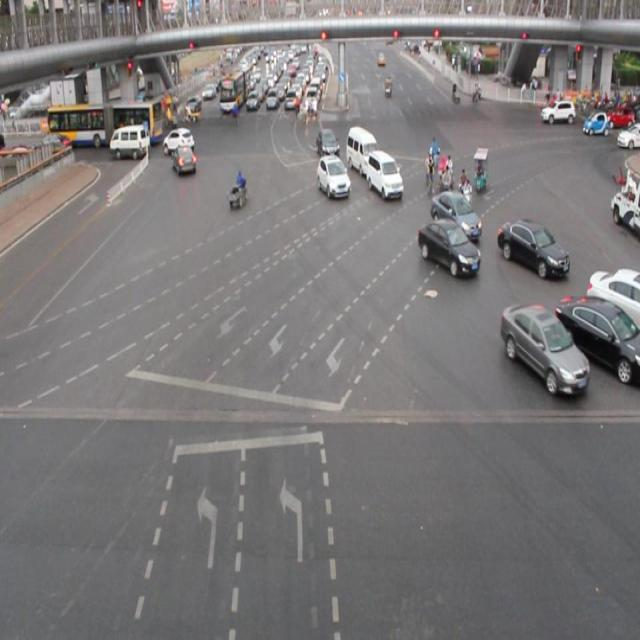car: (553, 295, 640, 382), (500, 302, 586, 390), (496, 216, 568, 276), (417, 218, 479, 274), (586, 266, 640, 330), (429, 188, 480, 238), (366, 148, 403, 198), (316, 155, 350, 196), (162, 127, 195, 155), (172, 144, 197, 177), (316, 128, 340, 162)
truck: (344, 125, 380, 177), (108, 126, 150, 161)
